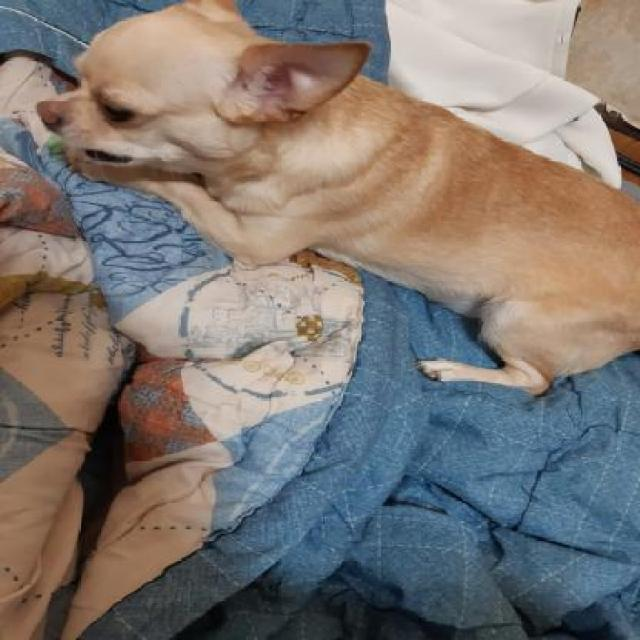Dog: (31, 0, 638, 400)
